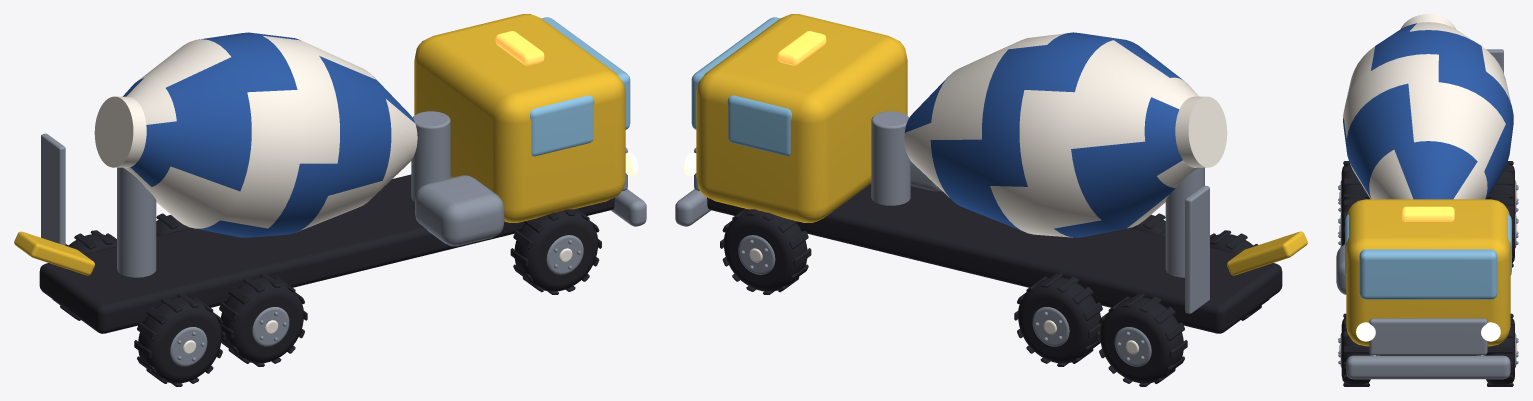
Rendered from cement_truck.glb.
3 renders of one model, left to right at view 1: azimuth 30°, elevation 25°; view 2: azimuth 150°, elevation 25°; view 3: azimuth 270°, elevation 25°, orthographic. The views are drawn at different scales.
Parts seen in each view (by area): view 1: cement_truck.004, drum.004; view 2: cement_truck.004, drum.004; view 3: cement_truck.004, drum.004.
Boxes of the visible parts, bbox=[...] form: cement_truck.004: bbox=[14, 14, 646, 386]; drum.004: bbox=[94, 32, 417, 237]; cement_truck.004: bbox=[675, 14, 1307, 386]; drum.004: bbox=[904, 32, 1227, 237]; cement_truck.004: bbox=[1336, 49, 1518, 386]; drum.004: bbox=[1343, 14, 1513, 199].
Bounding box in the file's own units: 8.44 × 3.94 × 2.77.
Materials: 1 (1 with a texture image).
